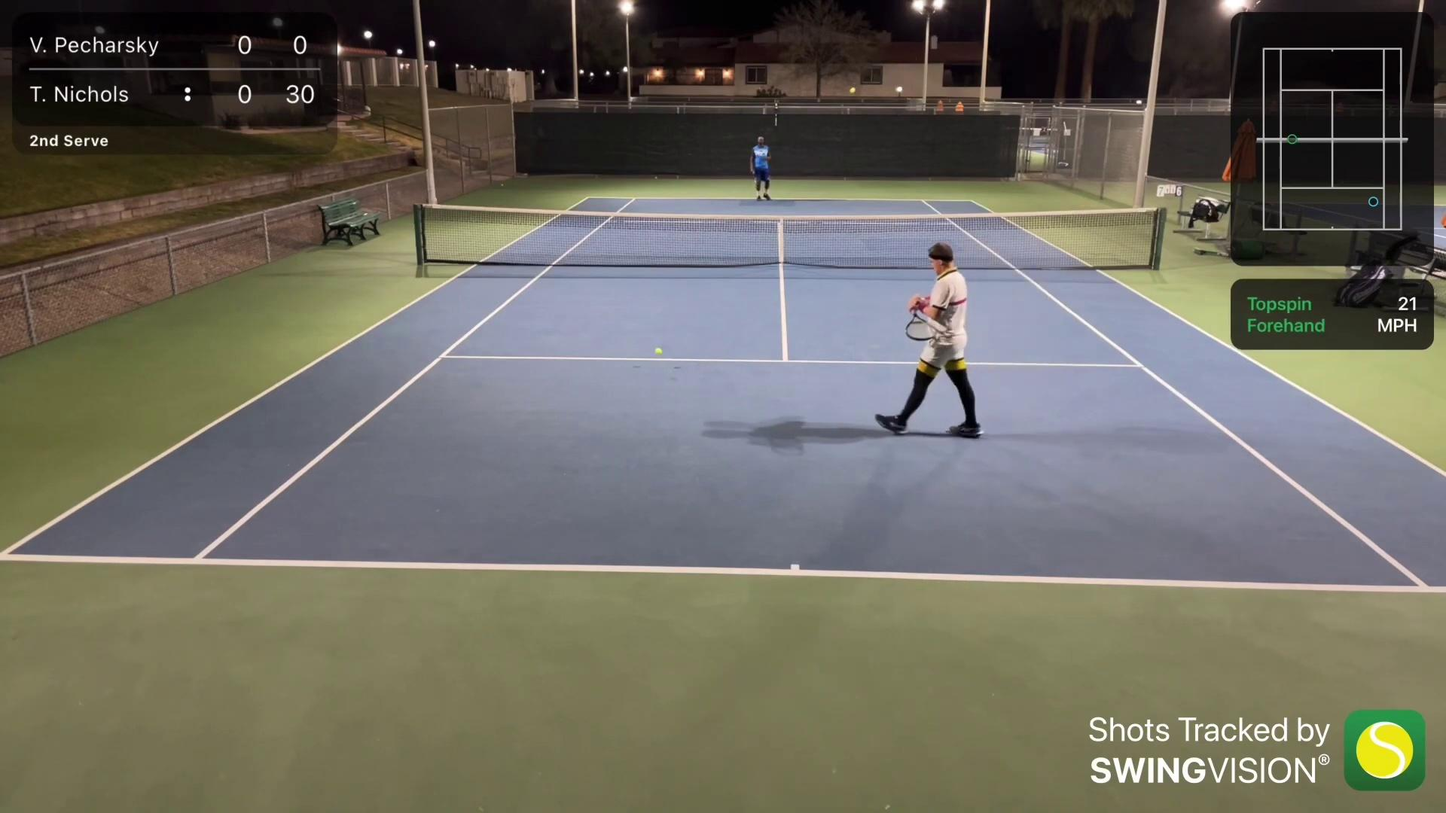ball: (649, 345, 666, 357), (847, 88, 856, 94)
